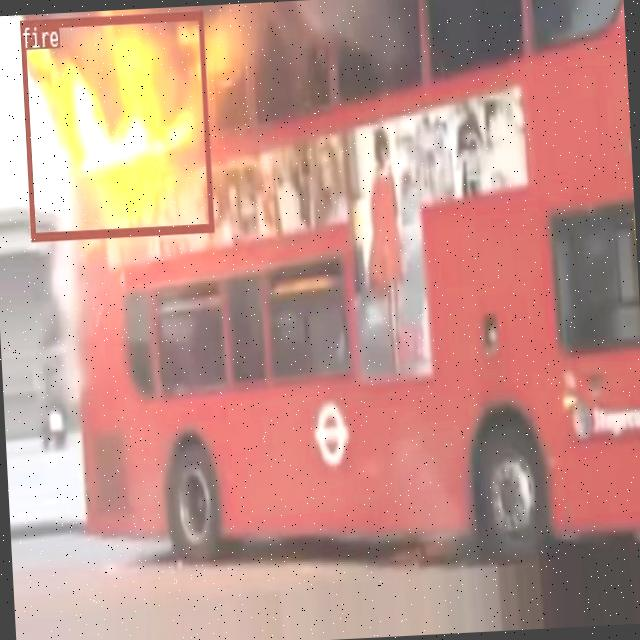fire: (19, 11, 213, 240)
